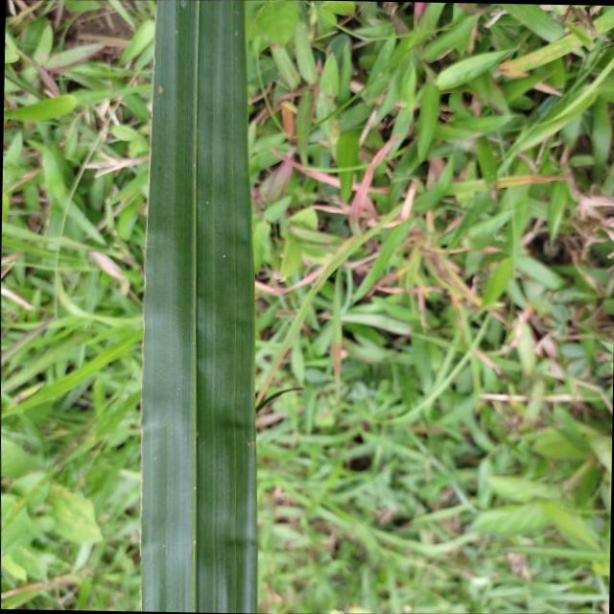Boron: (136, 0, 257, 614)
